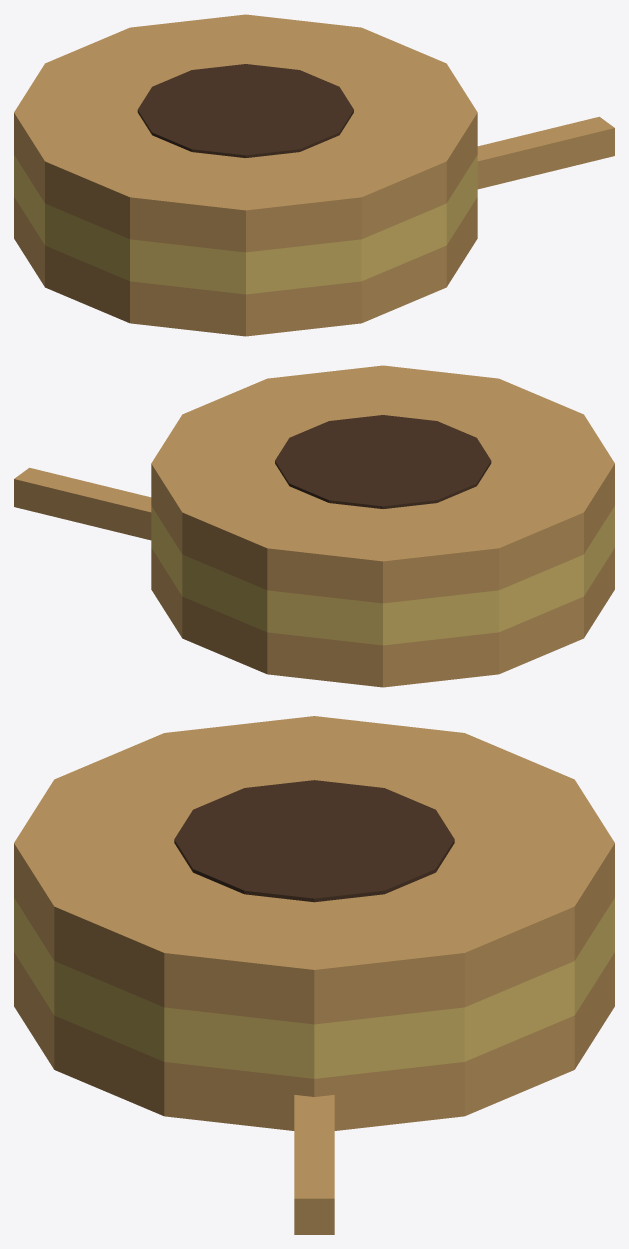
File: GT_RopeCoil_01.glb
3 views of the same model, one above another, from view 1: azimuth 30°, elevation 25°; view 2: azimuth 150°, elevation 25°; view 3: azimuth 270°, elevation 25° (orthographic). The views are drawn at different scales.
Parts seen in each view (by area): view 1: GT_RopeCoil_01; view 2: GT_RopeCoil_01; view 3: GT_RopeCoil_01.
Part boxes in pixels (box(x1,y1,x2,y2)): GT_RopeCoil_01: box(14, 14, 614, 336); GT_RopeCoil_01: box(14, 365, 614, 687); GT_RopeCoil_01: box(14, 716, 614, 1234).
Size of the model in its own units: 0.42 by 0.092 by 0.3.
Materials: 1 (1 with a texture image).
